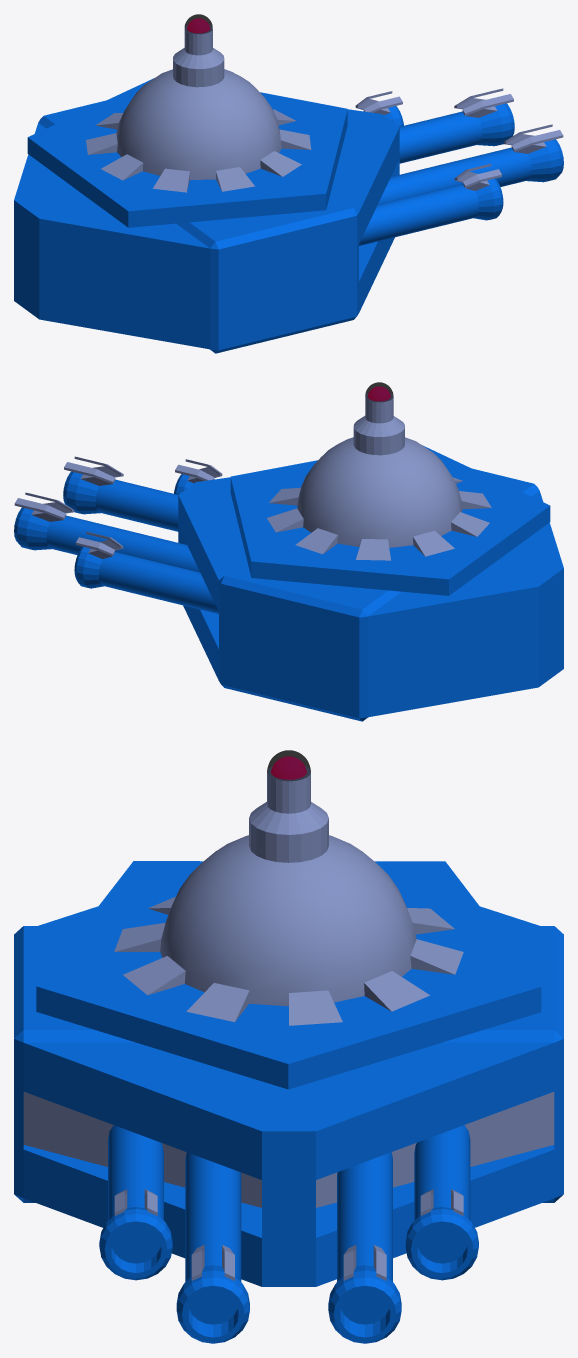
File: Pentagon_Turret_Gun.fbx
3 renders of one model, top to bottom at view 1: azimuth 30°, elevation 25°; view 2: azimuth 150°, elevation 25°; view 3: azimuth 270°, elevation 25°, orthographic. The views are drawn at different scales.
Visible parts, largest first — view 1: polySurface29; view 2: polySurface29; view 3: polySurface29.
Boxes of the visible parts, left/top/right/bottom form: polySurface29: left=14, top=14, right=563, bottom=353; polySurface29: left=14, top=382, right=563, bottom=721; polySurface29: left=14, top=750, right=563, bottom=1343.
Bounding box in the file's own units: 3.39 × 1.66 × 2.07.
